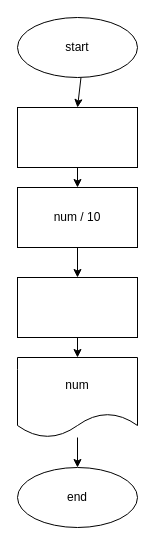
This 155x545 diagram has some shape labels left out. Here are the shapes that lost their labels. From the top down, the centre of each, then its label:
At [77,137]: "int num".
At [77,307]: "num % 10".
